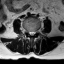CCS_severe_stenosis: (31, 28, 33, 38)
LFS_normal: (35, 27, 38, 35)
LLS_normal: (33, 28, 35, 36)
RFS_normal: (26, 27, 28, 35)
RLS_normal: (28, 28, 31, 37)
